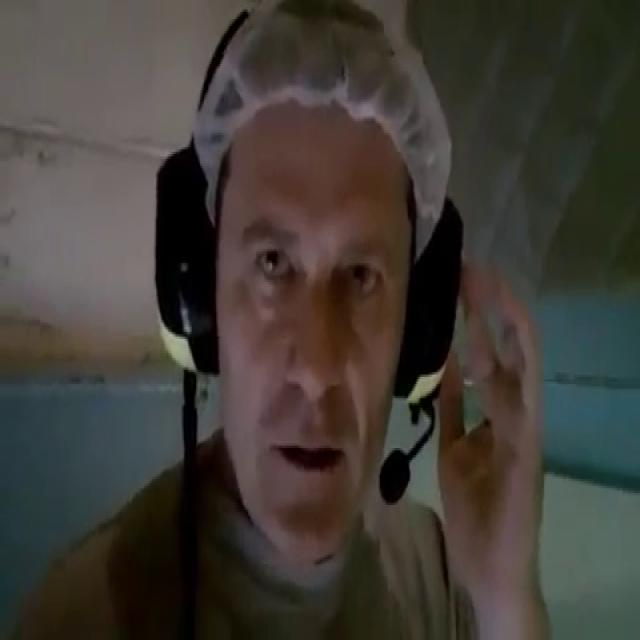earmuff: (155, 144, 224, 381), (392, 188, 464, 404)
